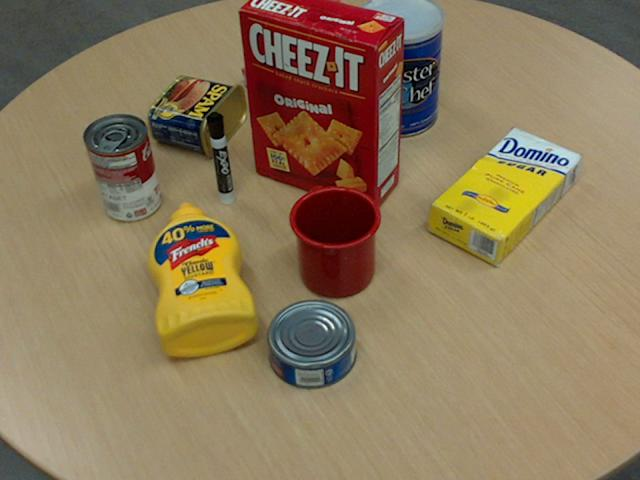cracker_box: (239, 0, 404, 209)
gelatin_box: (240, 48, 323, 112)
large_marker: (205, 111, 233, 205)
master_chef_can: (356, 0, 443, 137)
mug: (287, 185, 380, 296)
mustard_bottle: (146, 202, 258, 355)
potted_meat_can: (148, 75, 247, 156)
sugar_box: (427, 128, 581, 265)
tomato_soup_can: (83, 112, 159, 220)
tuna_fish_can: (267, 299, 356, 388)
